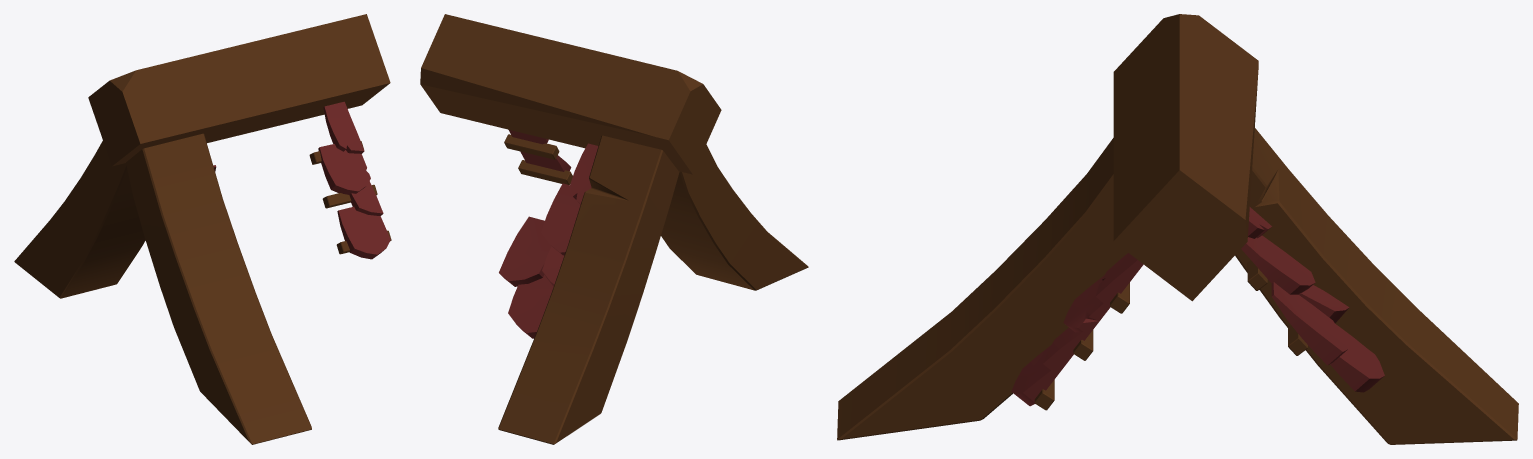
Rendered from Roof.fbx.
3 views of the same model, side by side, from view 1: azimuth 30°, elevation 25°; view 2: azimuth 150°, elevation 25°; view 3: azimuth 270°, elevation 25° (orthographic). The views are drawn at different scales.
Visible parts, largest first — view 1: Cubo.005; view 2: Cubo.005; view 3: Cubo.005.
Part boxes in pixels (x1=…): Cubo.005: x1=14, y1=14, x2=391, y2=444; Cubo.005: x1=420, y1=14, x2=808, y2=444; Cubo.005: x1=837, y1=14, x2=1518, y2=444.
Bounding box in the file's own units: 8.69 × 9.44 × 14.78.
